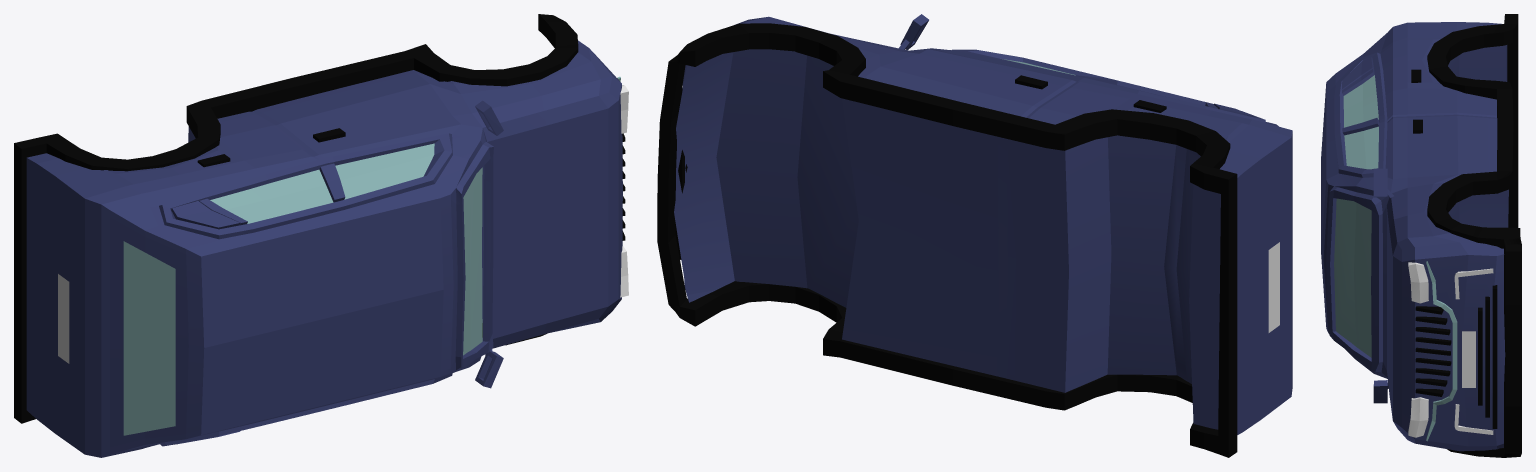
Rendered from toggmodel.glb.
3 views of the same model, side by side, from view 1: azimuth 30°, elevation 25°; view 2: azimuth 150°, elevation 25°; view 3: azimuth 270°, elevation 25° (orthographic). The views are drawn at different scales.
Parts seen in each view (by area): view 1: pureRed, shadeBlue, shadeBlack, shadeWhite; view 2: pureRed, shadeBlack, shadeWhite; view 3: pureRed, shadeBlack, shadeBlue, shadeWhite.
Part boxes in pixels (x1=…): pureRed: x1=26, y1=40, x2=622, y2=457; shadeBlue: x1=123, y1=76, x2=620, y2=435; shadeBlack: x1=14, y1=14, x2=625, y2=423; shadeWhite: x1=58, y1=85, x2=628, y2=363; pureRed: x1=674, y1=14, x2=1292, y2=434; shadeBlack: x1=657, y1=23, x2=1237, y2=457; shadeWhite: x1=1268, y1=242, x2=1279, y2=332; pureRed: x1=1321, y1=22, x2=1508, y2=451; shadeBlack: x1=1411, y1=14, x2=1521, y2=457; shadeBlue: x1=1334, y1=75, x2=1457, y2=441; shadeWhite: x1=1408, y1=262, x2=1493, y2=437.
Bounding box in the file's own units: 2.08 × 0.995 × 0.7711.
